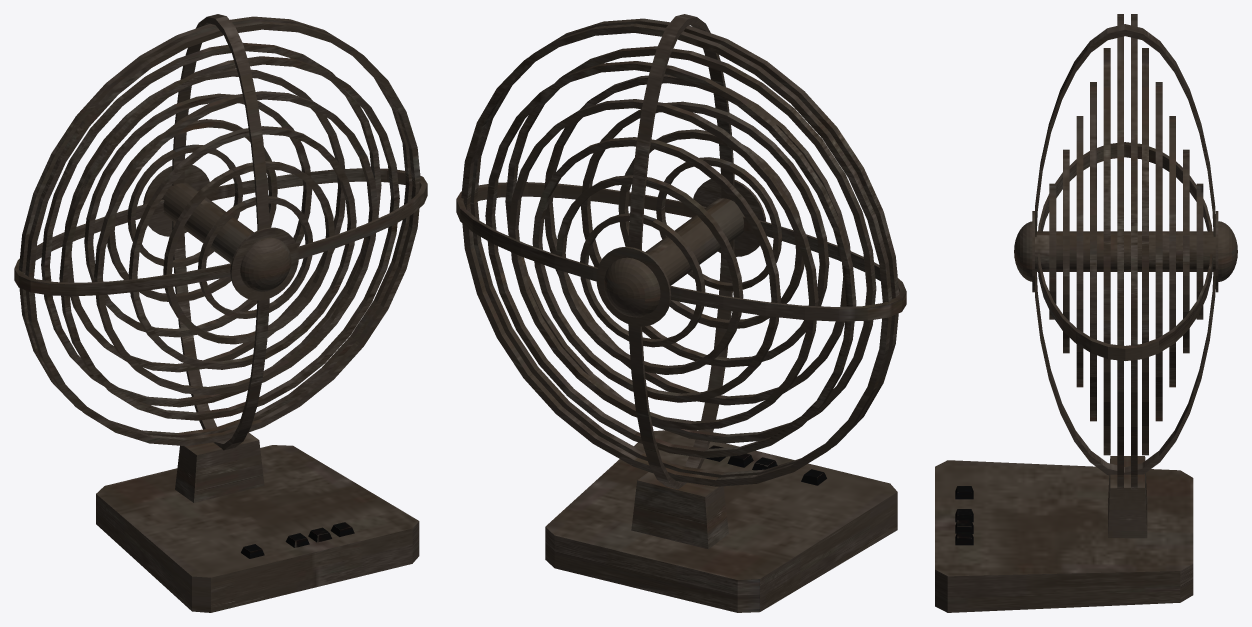
The model's file is mdlVentilador.obj.
3 views of the same model, side by side, from view 1: azimuth 30°, elevation 25°; view 2: azimuth 150°, elevation 25°; view 3: azimuth 270°, elevation 25° (orthographic). The views are drawn at different scales.
Parts seen in each view (by area): view 1: mdlVentiladorBase; view 2: mdlVentiladorBase; view 3: mdlVentiladorBase.
Boxes of the visible parts, x1,y1,x2,y2 form: mdlVentiladorBase: [14, 14, 427, 612]; mdlVentiladorBase: [456, 14, 906, 612]; mdlVentiladorBase: [935, 14, 1237, 612].
Size of the model in its own units: 1.46 by 1.74 by 0.906.
Materials: 1 (1 with a texture image).
